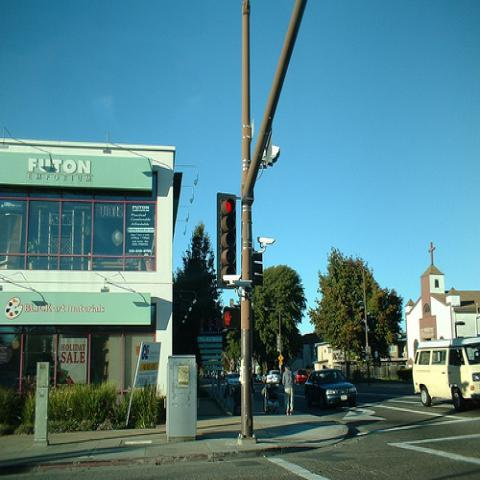car: (304, 368, 357, 410), (293, 370, 308, 385)
truck: (414, 339, 479, 412)
